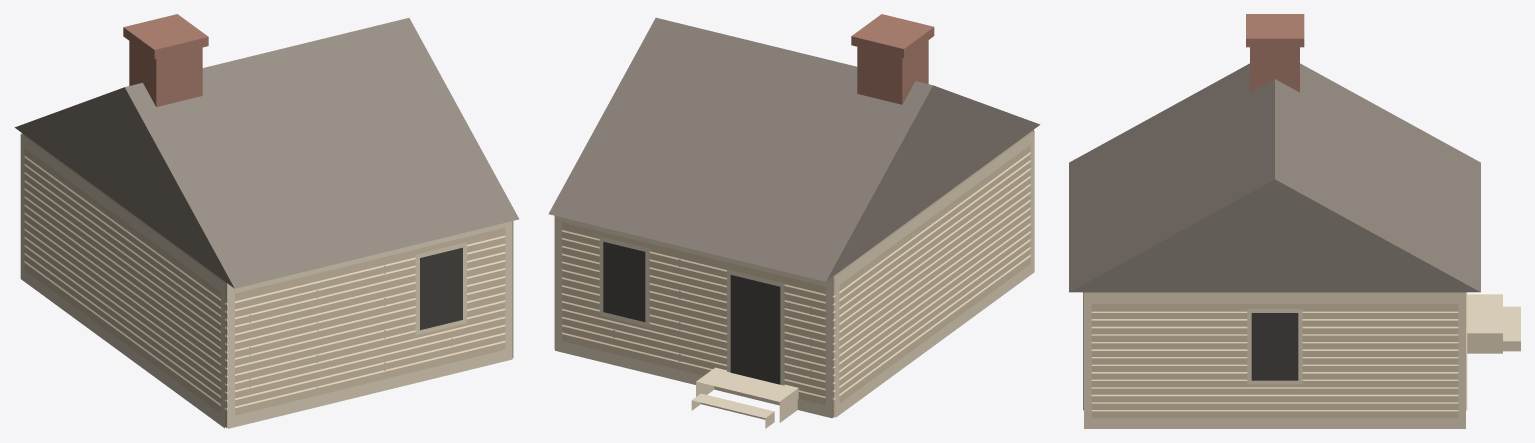
Rendered from recon_1835_blk_randolph_wells_d3_05__inferred_1835.glb.
3 renders of one model, left to right at view 1: azimuth 30°, elevation 25°; view 2: azimuth 150°, elevation 25°; view 3: azimuth 270°, elevation 25°, orthographic. The views are drawn at different scales.
Visible parts, largest first — view 1: recon_1835_blk_randolph_wells_d3_05__inferred_1835; view 2: recon_1835_blk_randolph_wells_d3_05__inferred_1835; view 3: recon_1835_blk_randolph_wells_d3_05__inferred_1835.
Boxes of the visible parts, x1,y1,x2,y2 form: recon_1835_blk_randolph_wells_d3_05__inferred_1835: [14, 14, 518, 428]; recon_1835_blk_randolph_wells_d3_05__inferred_1835: [548, 14, 1040, 428]; recon_1835_blk_randolph_wells_d3_05__inferred_1835: [1069, 14, 1520, 428].
Size of the model in its own units: 5.24 by 5.39 by 7.59.
